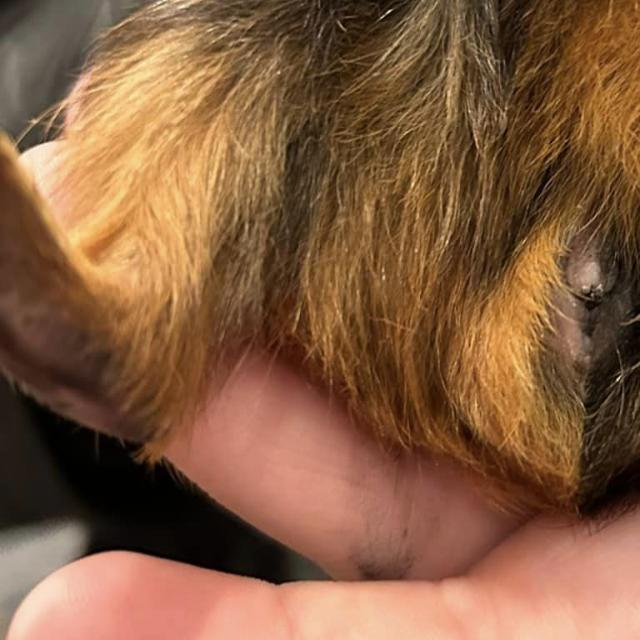fem: (511, 210, 640, 425)
